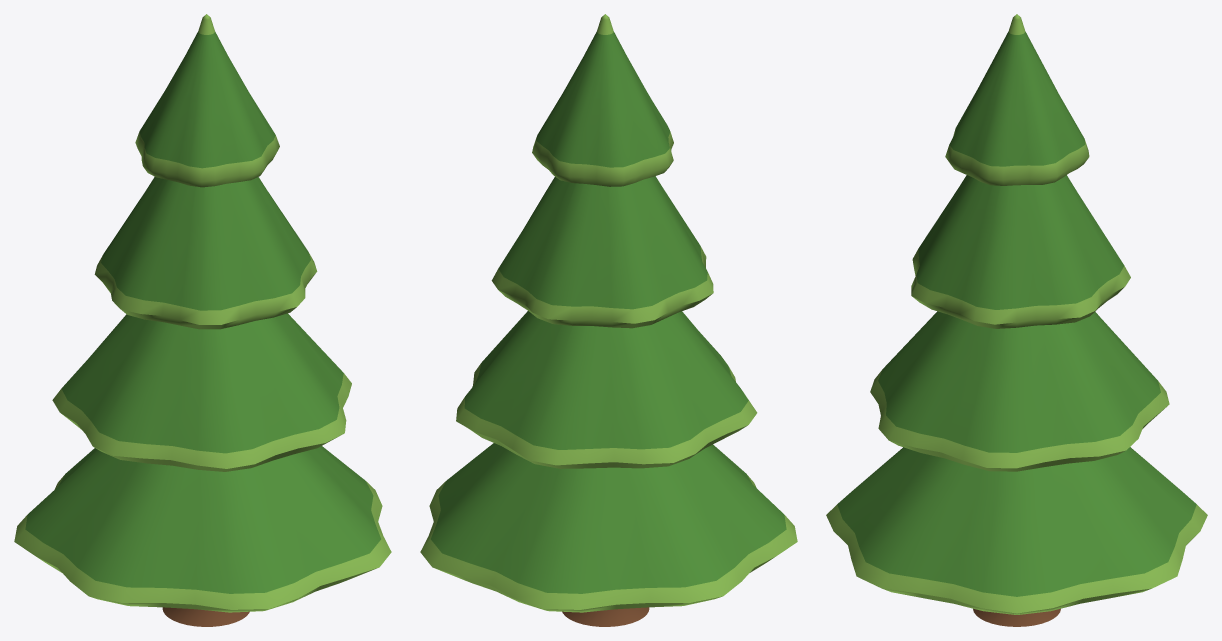
File: PineTree_16.glb
The picture shows the model from 3 angles, left to right: view 1: azimuth 30°, elevation 25°; view 2: azimuth 150°, elevation 25°; view 3: azimuth 270°, elevation 25°; orthographic projection.
Visible parts, largest first — view 1: PineTree_16; view 2: PineTree_16; view 3: PineTree_16.
Part boxes in pixels (left/top/right/bottom): PineTree_16: left=14, top=14, right=391, bottom=626; PineTree_16: left=420, top=14, right=797, bottom=626; PineTree_16: left=826, top=14, right=1207, bottom=626.
Bounding box in the file's own units: 5.16 × 9.05 × 5.27.
